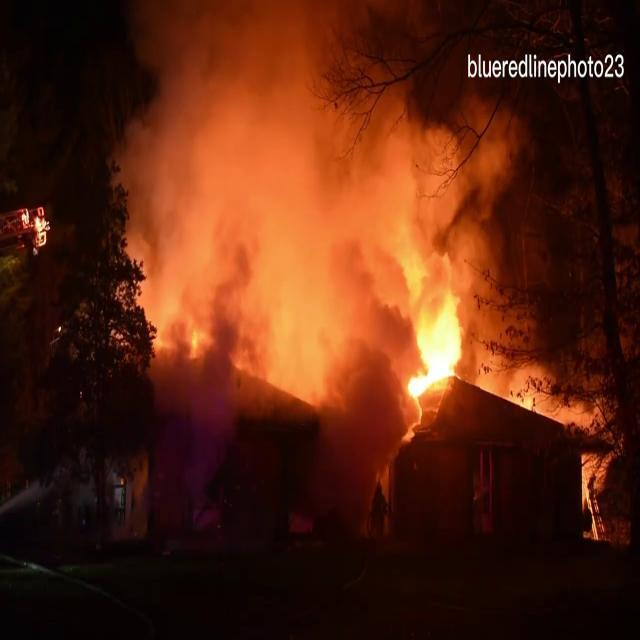Fire: (372, 189, 478, 410)
Smoke: (116, 1, 546, 430)
